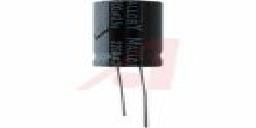Electrolytic-Capacitor: (91, 1, 167, 127)
